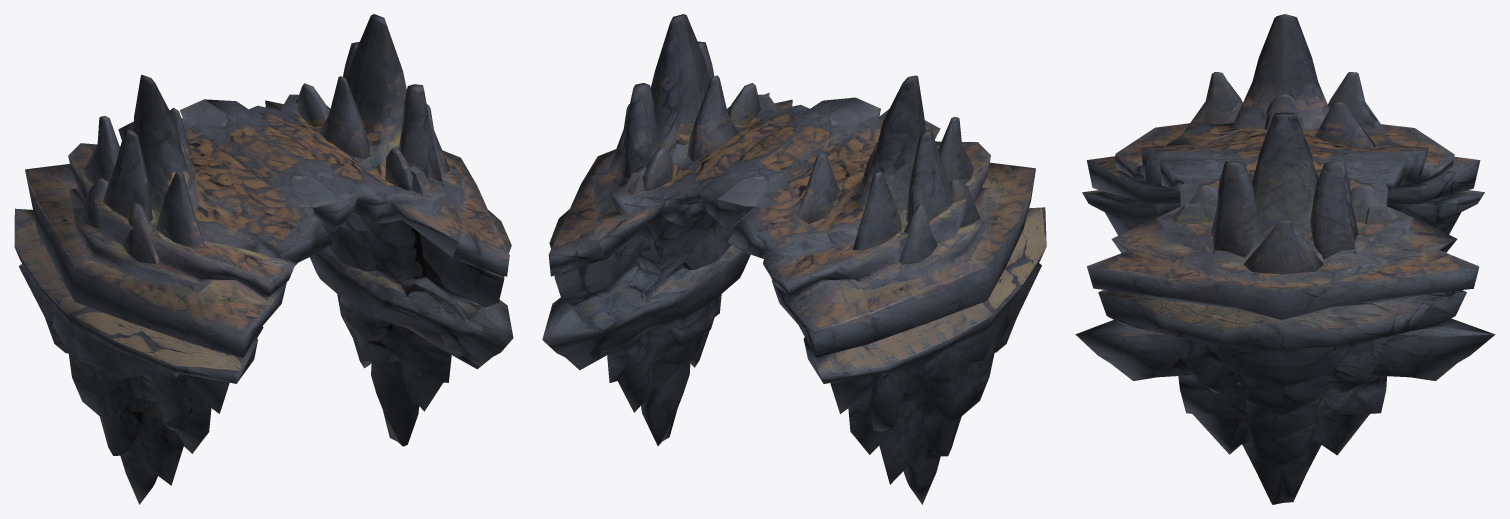
File: nightarch.glb
The picture shows the model from 3 angles, left to right: view 1: azimuth 30°, elevation 25°; view 2: azimuth 150°, elevation 25°; view 3: azimuth 270°, elevation 25°; orthographic projection. The views are drawn at different scales.
Visible parts, largest first — view 1: nightarch; view 2: nightarch; view 3: nightarch.
Part boxes in pixels (box(x1,y1,x2,y2)): nightarch: box(14, 14, 513, 504); nightarch: box(542, 14, 1046, 504); nightarch: box(1075, 14, 1495, 504).
Bounding box in the file's own units: 1 × 1 × 1.
Materials: 1 (1 with a texture image).
